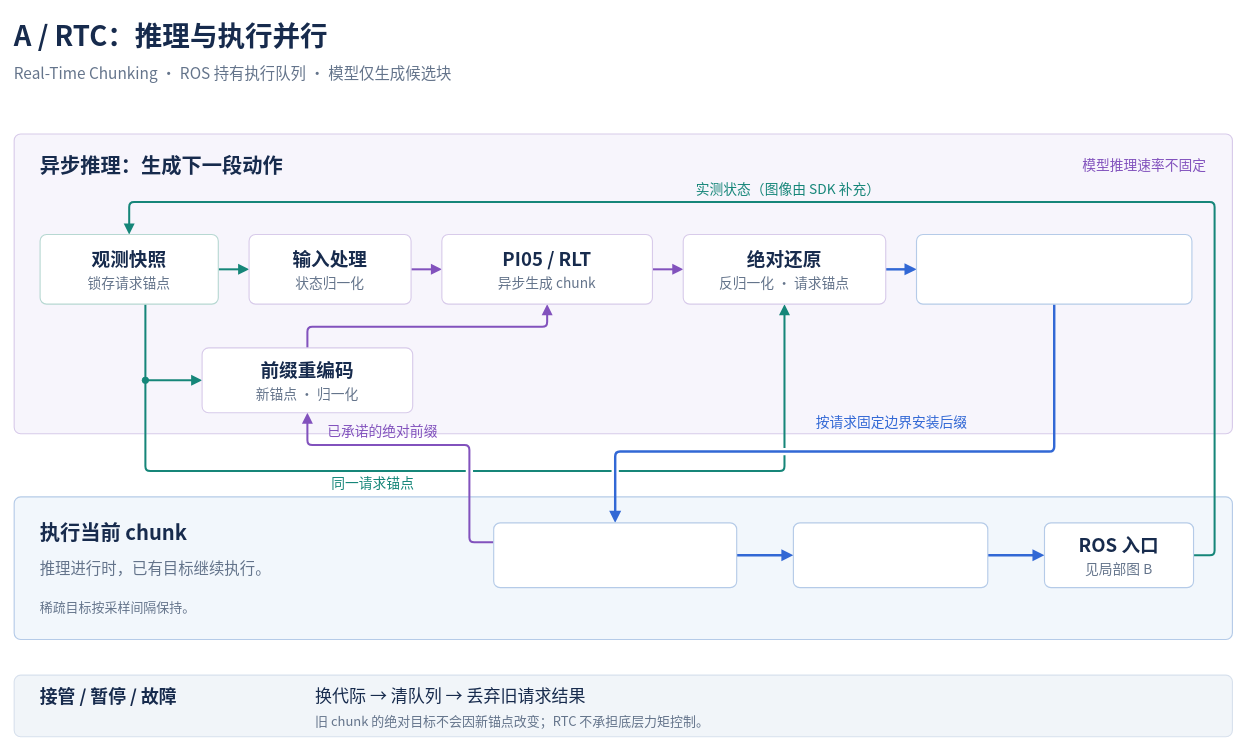
Some shapes in this 1247 by 751 pixel diagram are drawn without their labels. The shapes that lost their labels are listed below. From the top down, each one's centre as x and y in pixels, then its label:
point (1054, 269): 延迟对齐 / 合并 有效代次 · 固定替换边界
point (615, 555): ROS 绝对目标队列 保留每个 chunk 的绝对目标
point (890, 555): 逐步消费 ROS 接受 30 Hz
